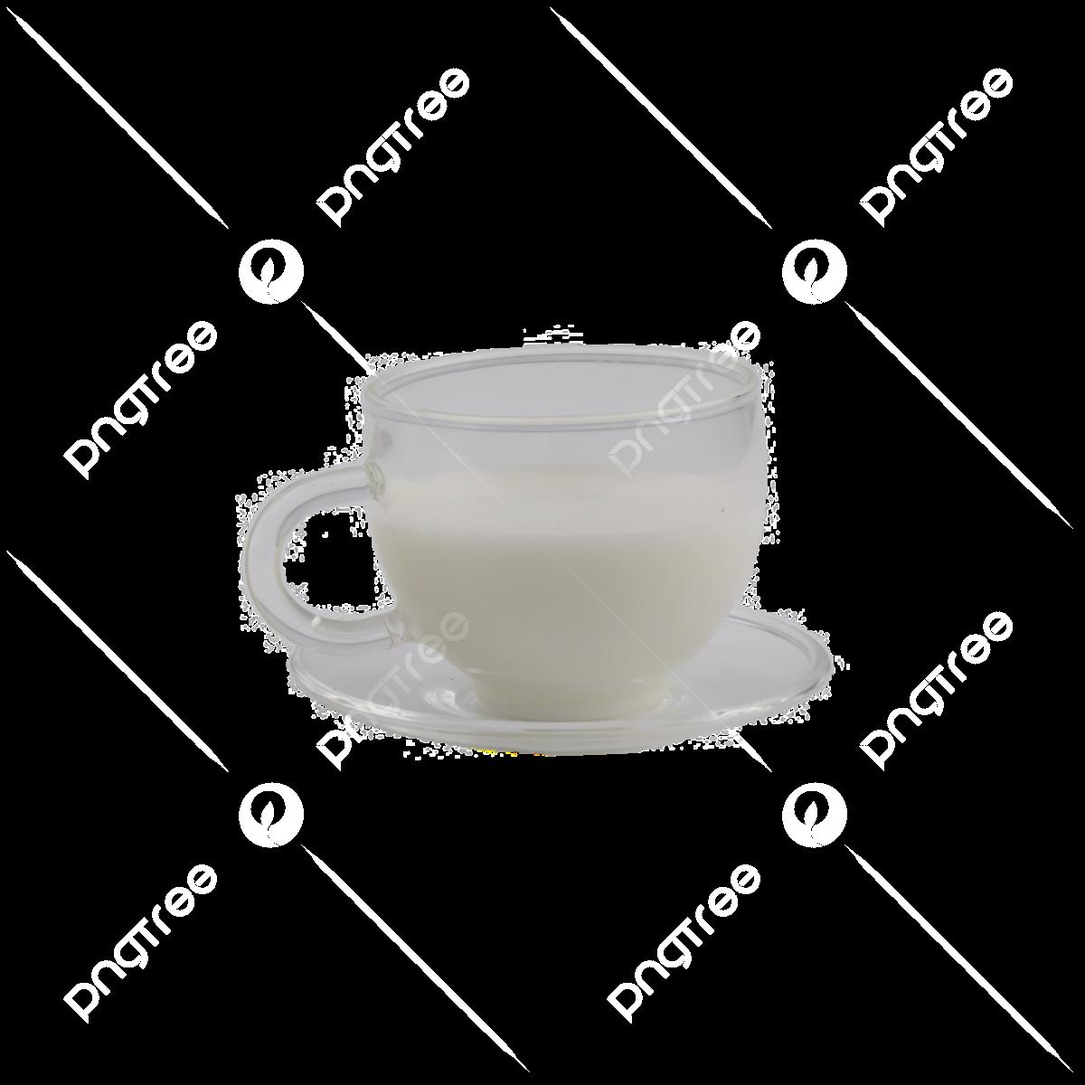produk_susu: (374, 378, 728, 688)
